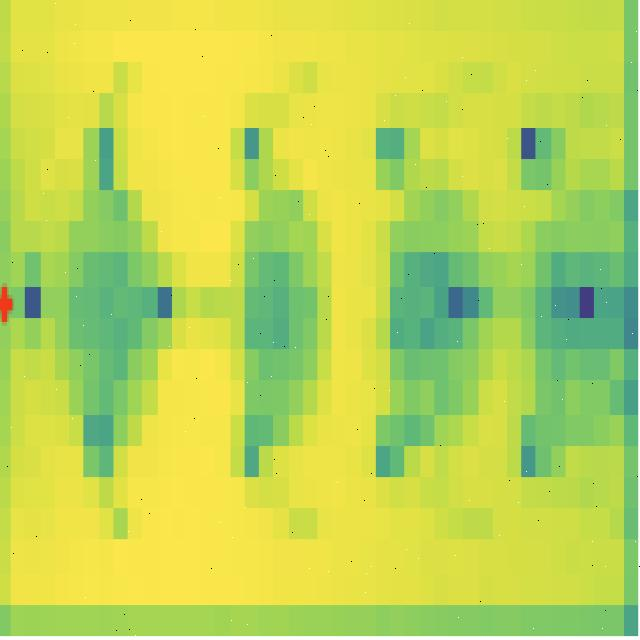Concrete: (358, 94, 495, 471)
Glass: (210, 97, 331, 484)
Metal: (513, 86, 630, 494)
Wood: (38, 108, 170, 500)
